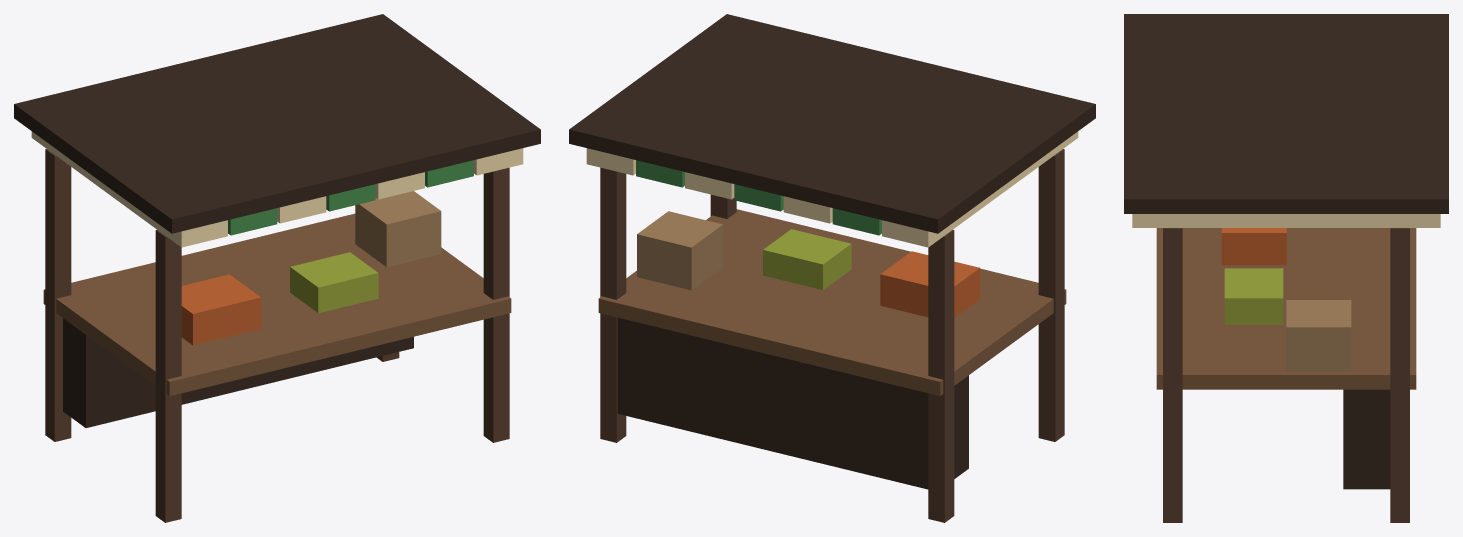
Rendered from market_stall.obj.
3 renders of one model, left to right at view 1: azimuth 30°, elevation 25°; view 2: azimuth 150°, elevation 25°; view 3: azimuth 270°, elevation 25°, orthographic. The views are drawn at different scales.
Parts seen in each view (by area): view 1: market_stall; view 2: market_stall; view 3: market_stall.
Part boxes in pixels (<box>): market_stall: <box>14,14,540,522</box>; market_stall: <box>569,14,1095,522</box>; market_stall: <box>1124,14,1448,522</box>.
Size of the model in its own units: 2.7 by 2.24 by 2.
